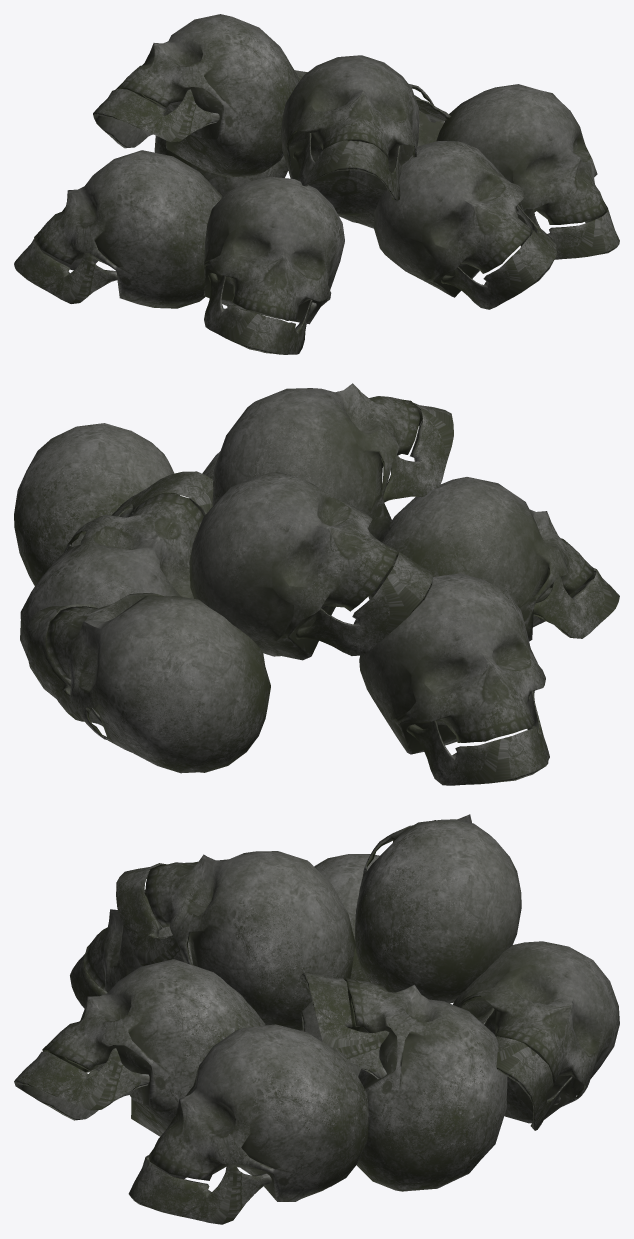
Rendered from skull_pile.fbx.
The picture shows the model from 3 angles, top to bottom: view 1: azimuth 30°, elevation 25°; view 2: azimuth 150°, elevation 25°; view 3: azimuth 270°, elevation 25°; orthographic projection. The views are drawn at different scales.
Parts seen in each view (by area): view 1: skull__LP9; view 2: skull__LP9; view 3: skull__LP9.
Part boxes in pixels (x1=…): skull__LP9: x1=14, y1=14, x2=619, y2=354; skull__LP9: x1=14, y1=383, x2=619, y2=785; skull__LP9: x1=14, y1=814, x2=619, y2=1224.
Bounding box in the file's own units: 1042 × 471 × 950.
